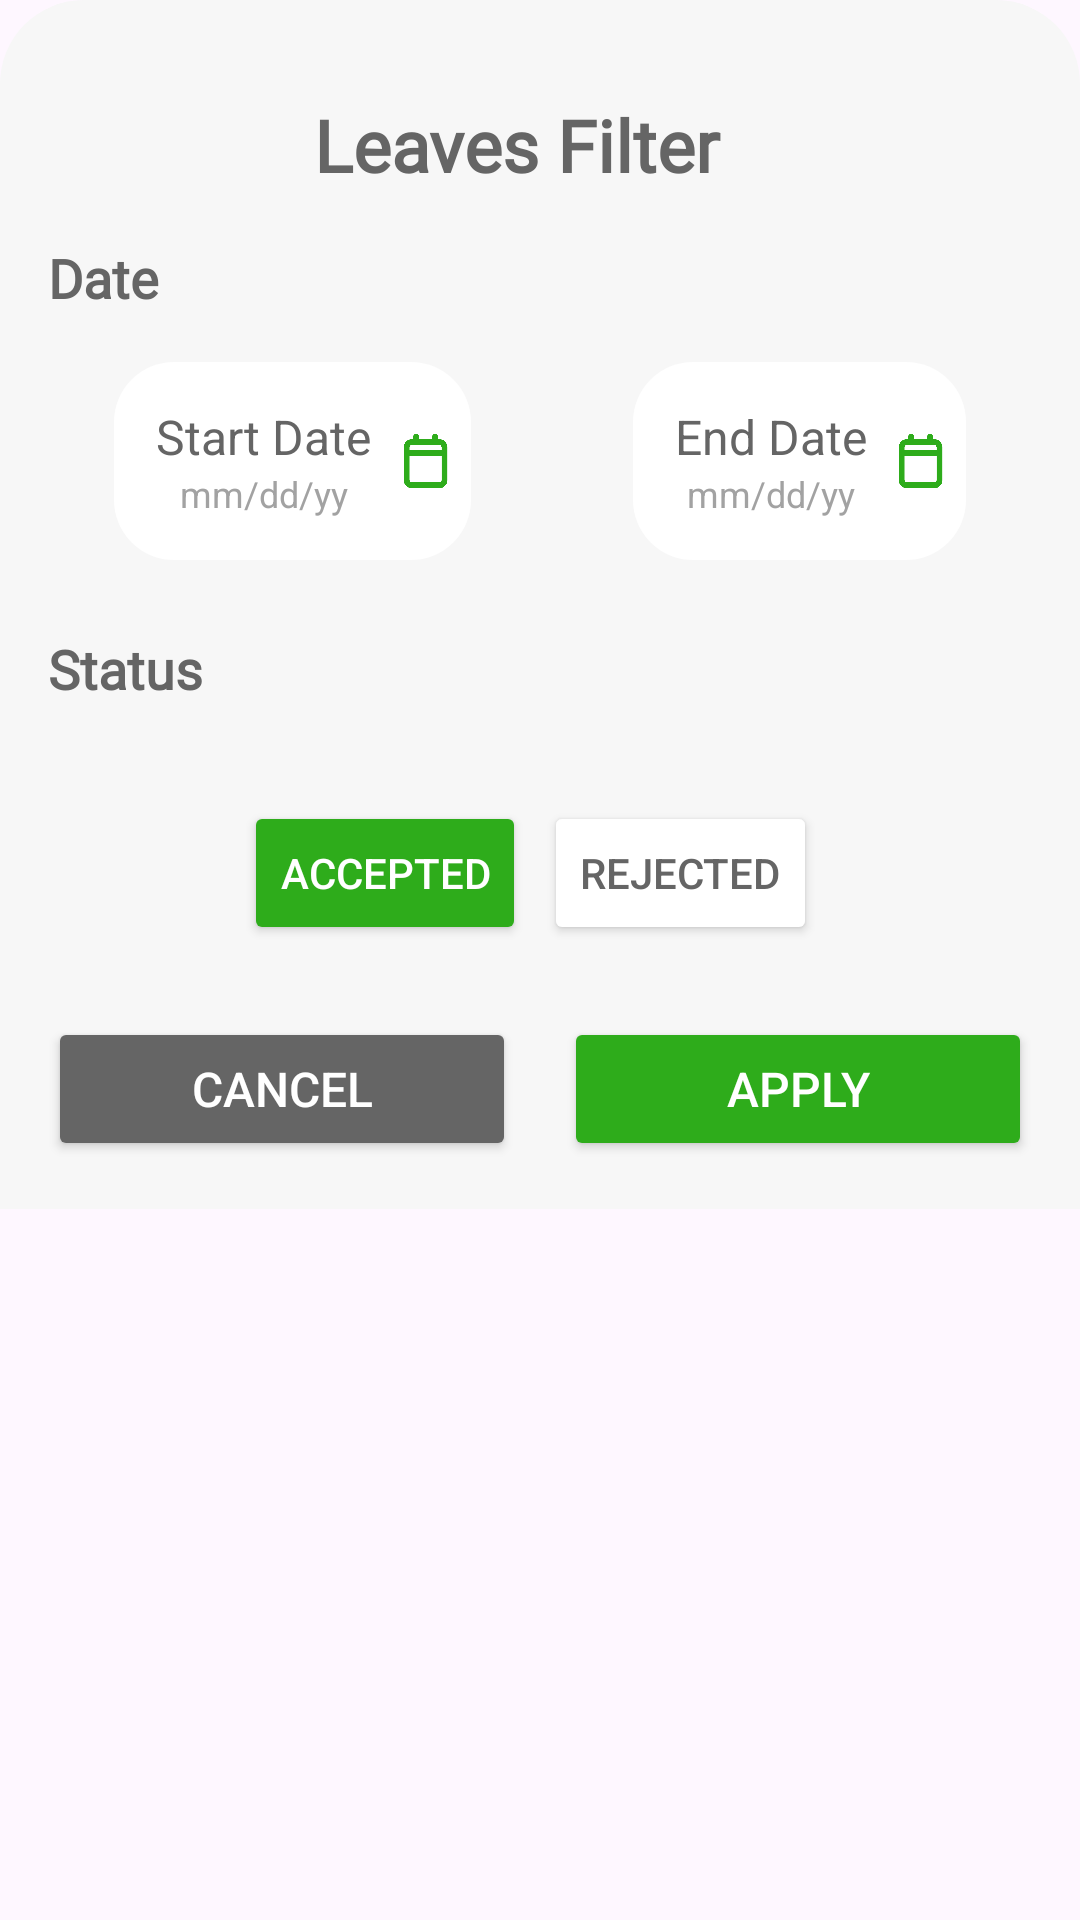

Named icons in this screenshot (1080 × 1920) and their bounding boxes, (left=x1, top=y1, right=x2, bottom=y2):
calender: (left=404, top=434, right=448, bottom=488), (left=899, top=434, right=943, bottom=488)
